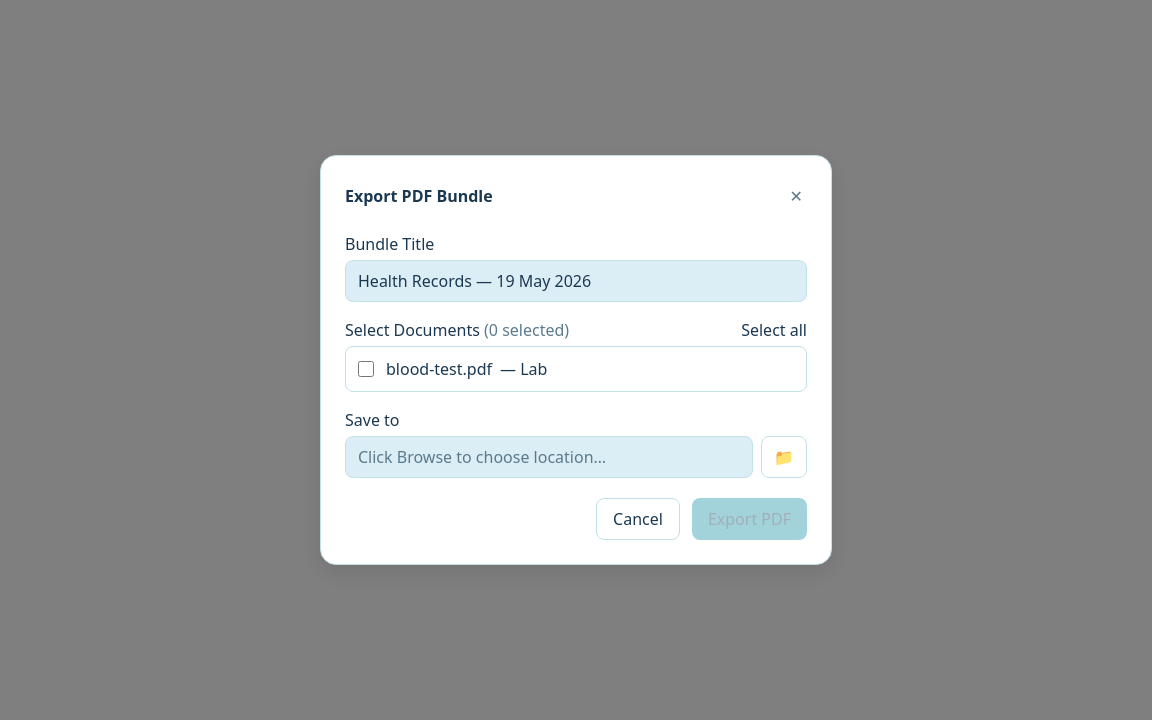
Test: ExportDialog › shows success state after export completes
Click the button named "browse" at {"x": 784, "y": 457}, box [761,436,807,478]
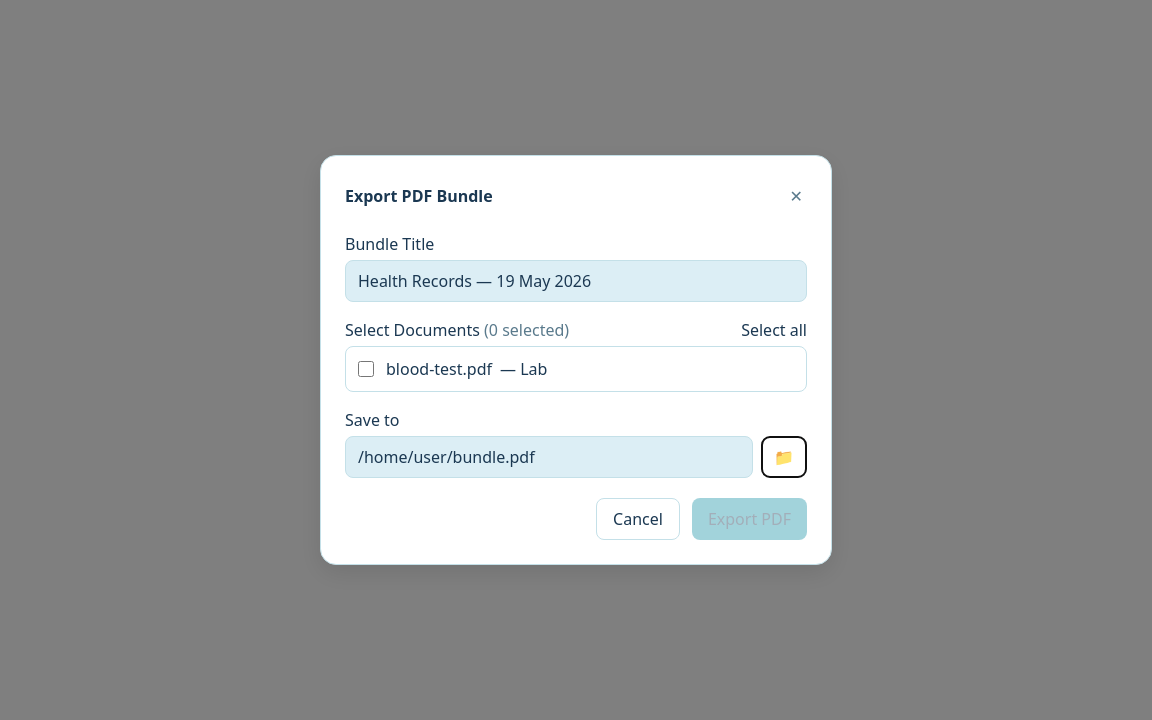
expect the field with placeholder "Click Browse to choose location…" holds "/home/user/bundle.pdf": met, box [345,436,753,478]
Click the checkbox at {"x": 366, "y": 369}, box [358,361,374,377]
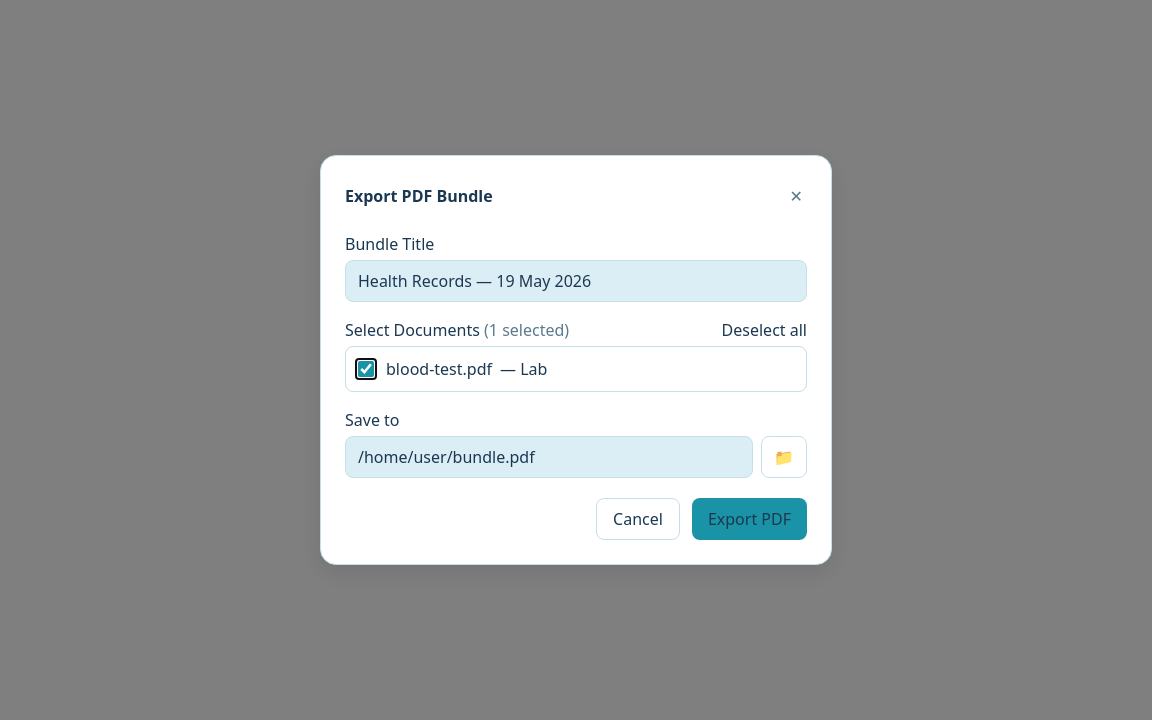
Click the button "Export PDF" at {"x": 749, "y": 519}, box [692,498,807,540]
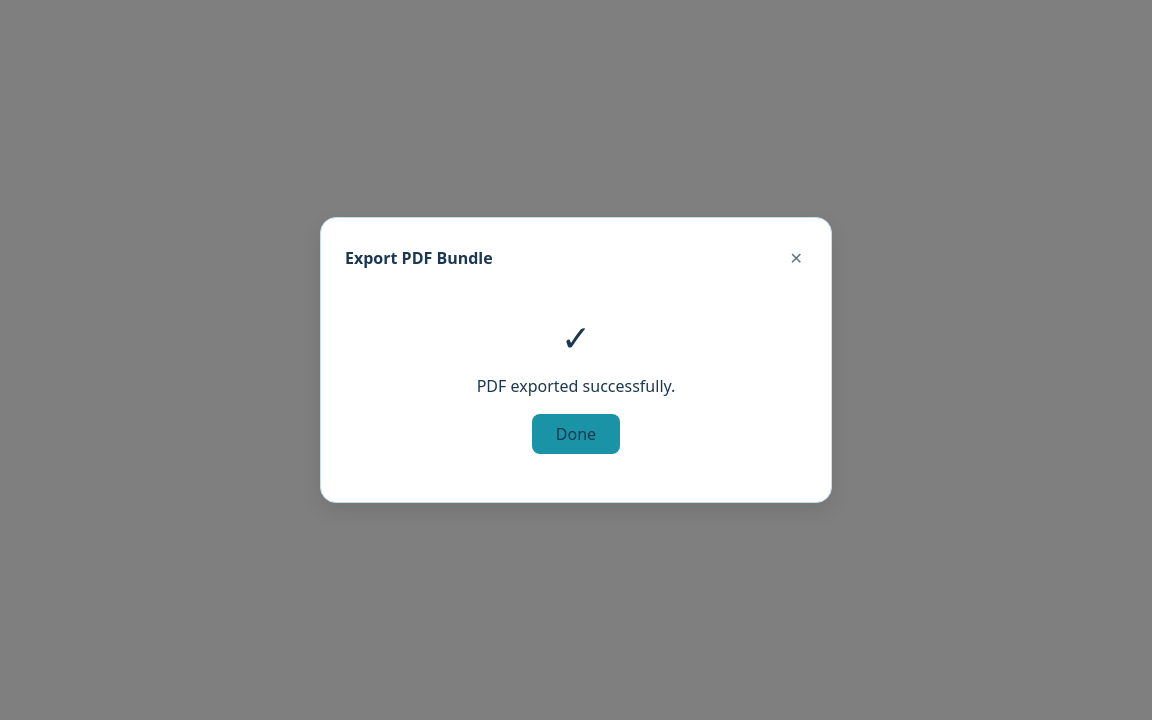
expect the text "PDF exported successfully." is shown: met, box [477,374,675,398]
